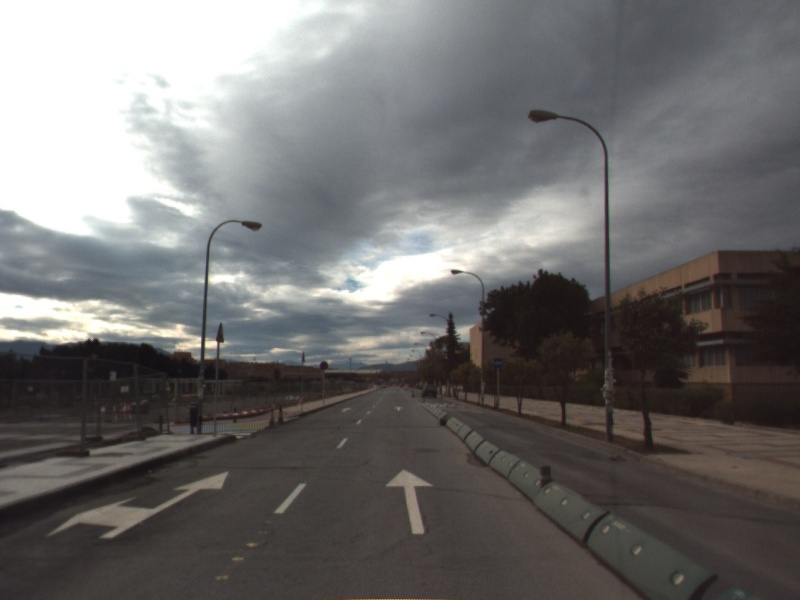STRAIGHT: (383, 467, 436, 536)
STRAIGHT_LEFT: (44, 470, 231, 541)
